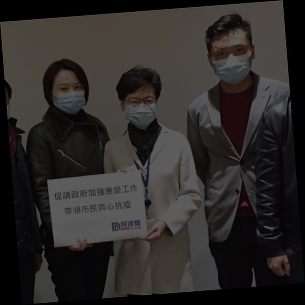with_mask: (210, 42, 254, 85), (124, 92, 159, 129), (52, 81, 88, 113)
